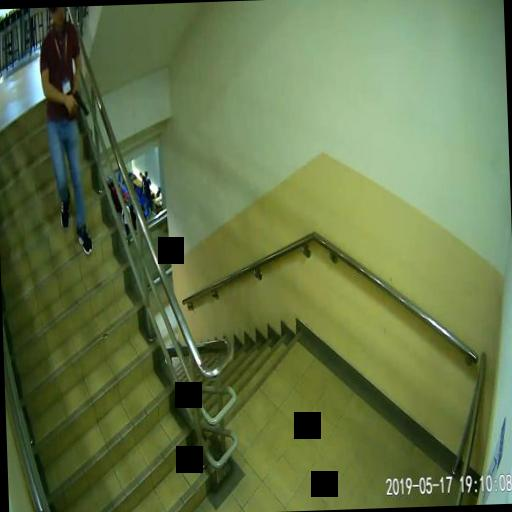Handgun: (67, 88, 87, 114)
